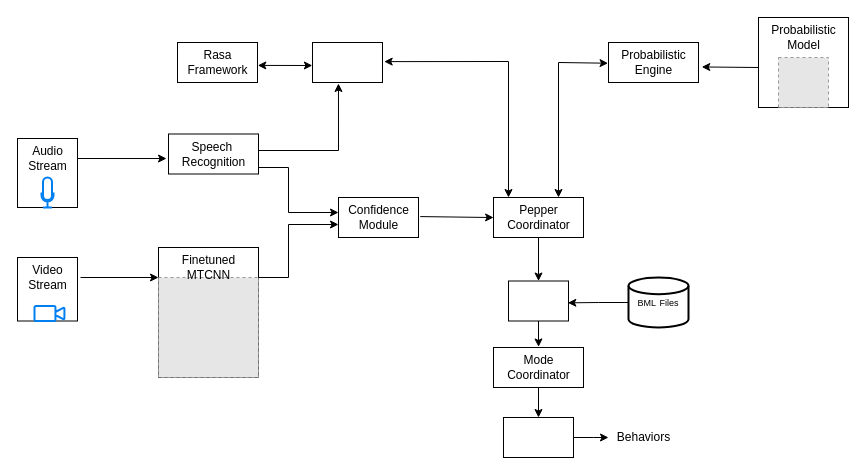
Image size: 866x475. Some labels were removed from this diagram. Grey dashed boxes stand in for pictures. Here are the shapes that lost their labels. From the top down, the centre of each, then its label:
the point at 347,62: Dialog Manager
the point at 538,300: BML Parser
the point at 538,437: Behavior Realizer
